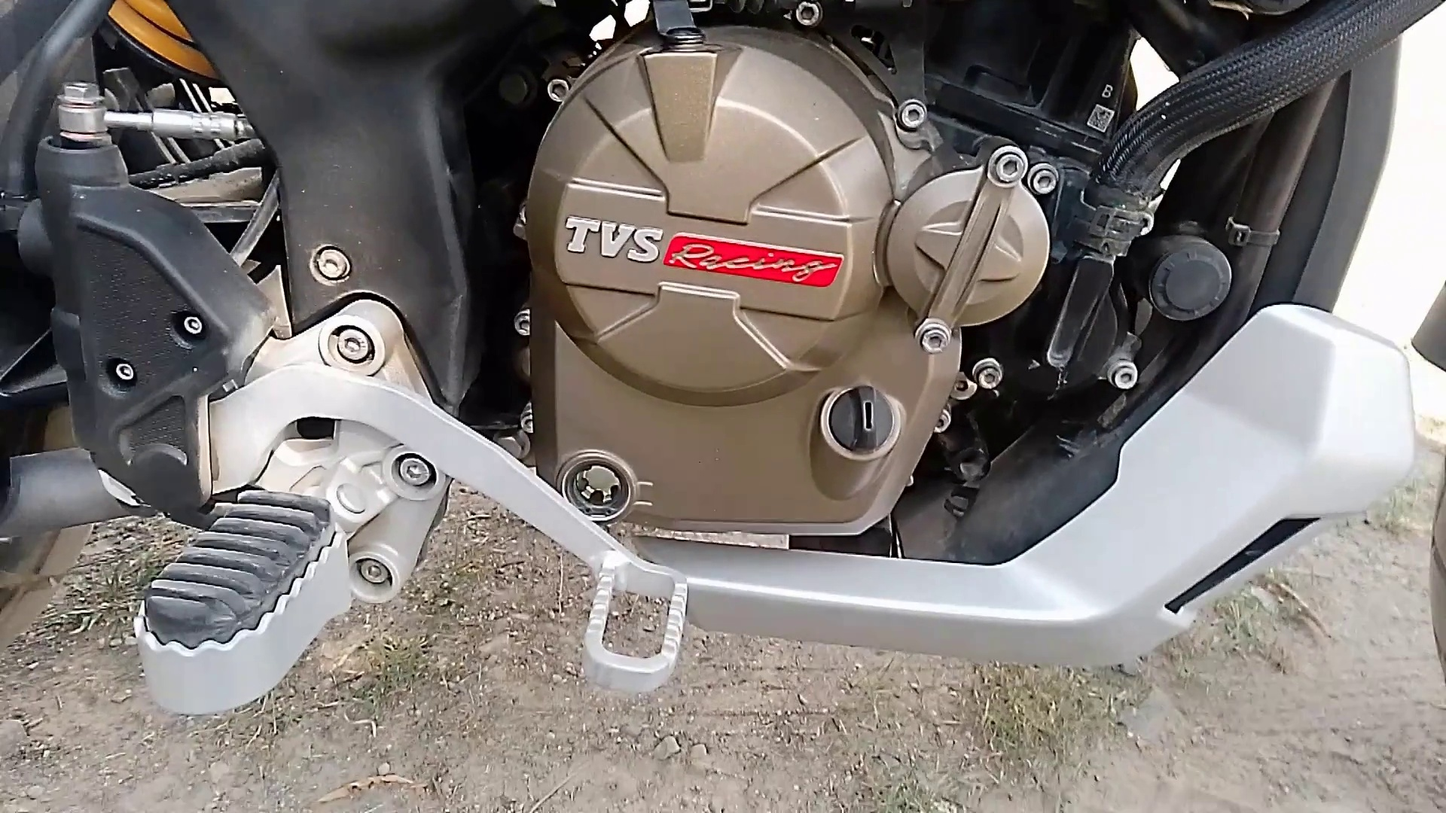bike-engine: (525, 22, 1064, 535)
bike-engine-level: (554, 445, 638, 525)
bike-oil-cap: (811, 376, 909, 466)
